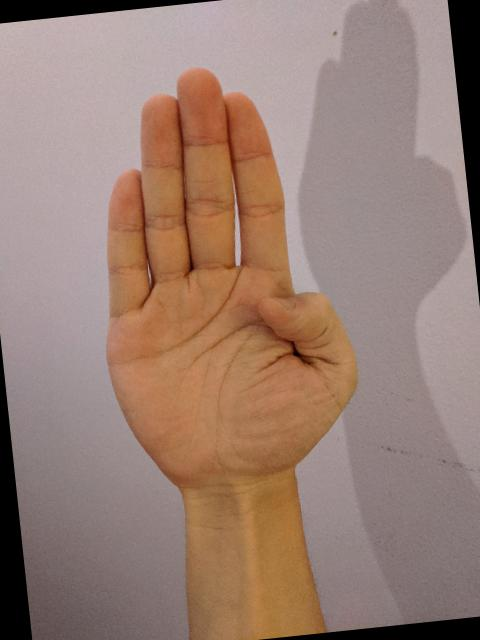B: (62, 41, 382, 516)
